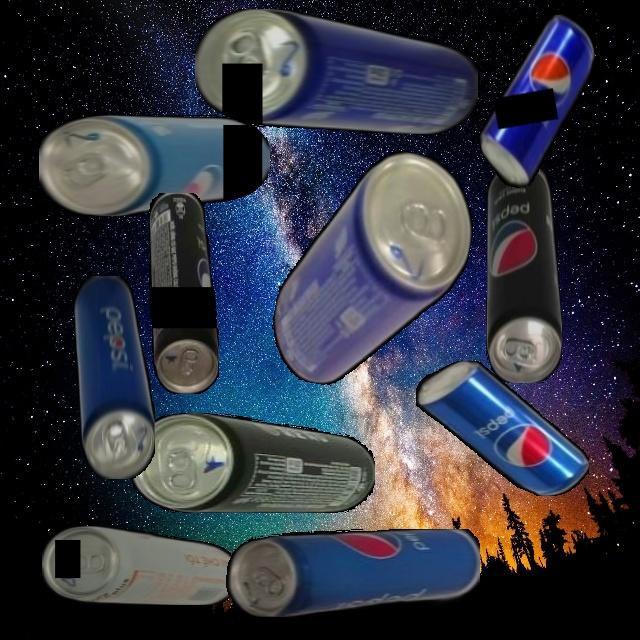debris: (264, 135, 484, 405), (195, 8, 478, 134), (461, 10, 615, 192), (131, 412, 375, 513), (39, 114, 270, 216), (415, 361, 589, 496), (226, 528, 480, 617), (485, 165, 562, 383), (73, 275, 155, 479), (42, 525, 239, 605), (148, 192, 219, 394)
